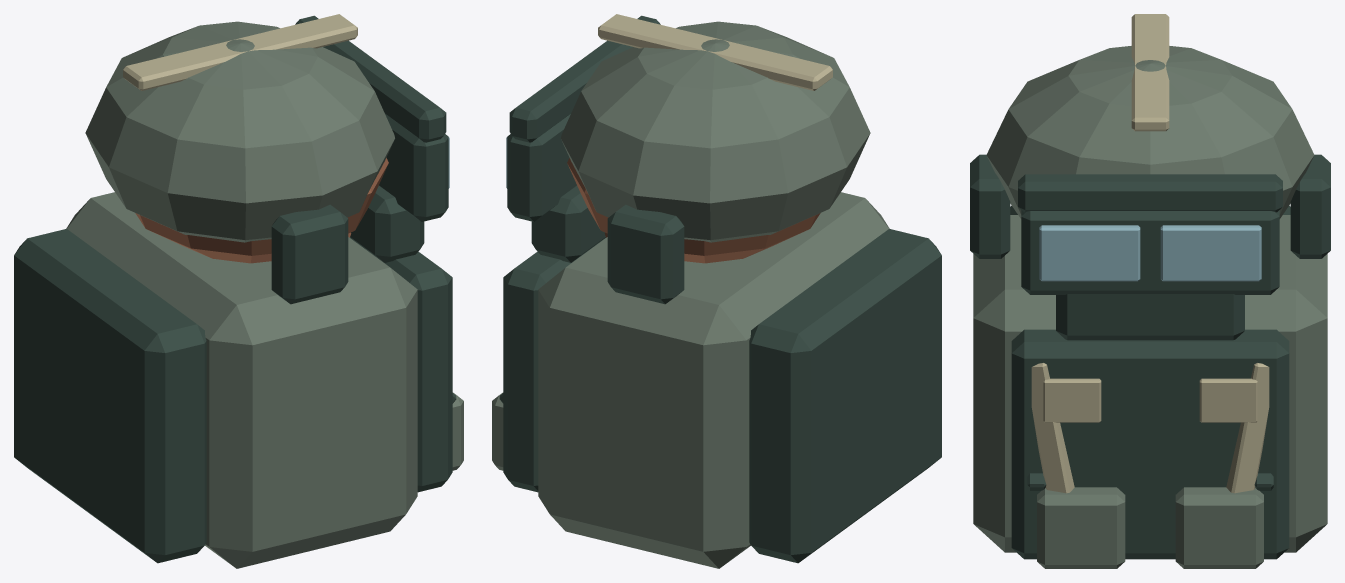
File: ranger-elite.recon-pilot.glb
3 views of the same model, side by side, from view 1: azimuth 30°, elevation 25°; view 2: azimuth 150°, elevation 25°; view 3: azimuth 270°, elevation 25° (orthographic).
Parts seen in each view (by area): view 1: ranger-elite_recon-pilot__main__torso_finish_6b796c_0.03, ranger-elite_recon-pilot__main__torso_finish_394c45_0.03, ranger-elite_recon-pilot__main__head_finish_6b796c_0.03, ranger-elite_recon-pilot__main__head_finish_394c45_0.03, ranger-elite_recon-pilot__main__head_finish_b7b092_0.03, ranger-elite_recon-pilot__main__head_finish_9c684e_0.03; view 2: ranger-elite_recon-pilot__main__torso_finish_6b796c_0.03, ranger-elite_recon-pilot__main__torso_finish_394c45_0.03, ranger-elite_recon-pilot__main__head_finish_6b796c_0.03, ranger-elite_recon-pilot__main__head_finish_394c45_0.03, ranger-elite_recon-pilot__main__head_finish_b7b092_0.03, ranger-elite_recon-pilot__main__head_finish_9c684e_0.03; view 3: ranger-elite_recon-pilot__main__torso_finish_6b796c_0.03, ranger-elite_recon-pilot__main__torso_finish_394c45_0.03, ranger-elite_recon-pilot__main__head_finish_394c45_0.03, ranger-elite_recon-pilot__main__head_finish_6b796c_0.03, ranger-elite_recon-pilot__main__head_finish_91b6c0_0.03, ranger-elite_recon-pilot__main__torso_finish_b7b092_0.03, ranger-elite_recon-pilot__main__head_finish_b7b092_0.03.
Boxes of the visible parts, box(x1,y1,x2,y2) form: ranger-elite_recon-pilot__main__torso_finish_6b796c_0.03: box(66, 192, 463, 568); ranger-elite_recon-pilot__main__torso_finish_394c45_0.03: box(14, 229, 456, 563); ranger-elite_recon-pilot__main__head_finish_6b796c_0.03: box(85, 21, 394, 242); ranger-elite_recon-pilot__main__head_finish_394c45_0.03: box(271, 15, 448, 304); ranger-elite_recon-pilot__main__head_finish_b7b092_0.03: box(123, 14, 357, 90); ranger-elite_recon-pilot__main__head_finish_9c684e_0.03: box(135, 158, 388, 263); ranger-elite_recon-pilot__main__torso_finish_6b796c_0.03: box(492, 192, 889, 568); ranger-elite_recon-pilot__main__torso_finish_394c45_0.03: box(499, 229, 941, 563); ranger-elite_recon-pilot__main__head_finish_6b796c_0.03: box(561, 21, 870, 242); ranger-elite_recon-pilot__main__head_finish_394c45_0.03: box(507, 15, 684, 304); ranger-elite_recon-pilot__main__head_finish_b7b092_0.03: box(598, 14, 832, 90); ranger-elite_recon-pilot__main__head_finish_9c684e_0.03: box(567, 158, 820, 263); ranger-elite_recon-pilot__main__torso_finish_6b796c_0.03: box(973, 215, 1327, 568); ranger-elite_recon-pilot__main__torso_finish_394c45_0.03: box(1010, 205, 1290, 559); ranger-elite_recon-pilot__main__head_finish_394c45_0.03: box(970, 154, 1330, 340); ranger-elite_recon-pilot__main__head_finish_6b796c_0.03: box(986, 46, 1314, 218); ranger-elite_recon-pilot__main__head_finish_91b6c0_0.03: box(1039, 225, 1261, 281); ranger-elite_recon-pilot__main__torso_finish_b7b092_0.03: box(1031, 363, 1269, 493); ranger-elite_recon-pilot__main__head_finish_b7b092_0.03: box(1131, 14, 1169, 131).
Bounding box in the file's own units: 30.25 × 39.5 × 28.6.
